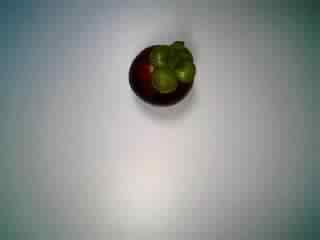mangosteen: (124, 38, 201, 112)
